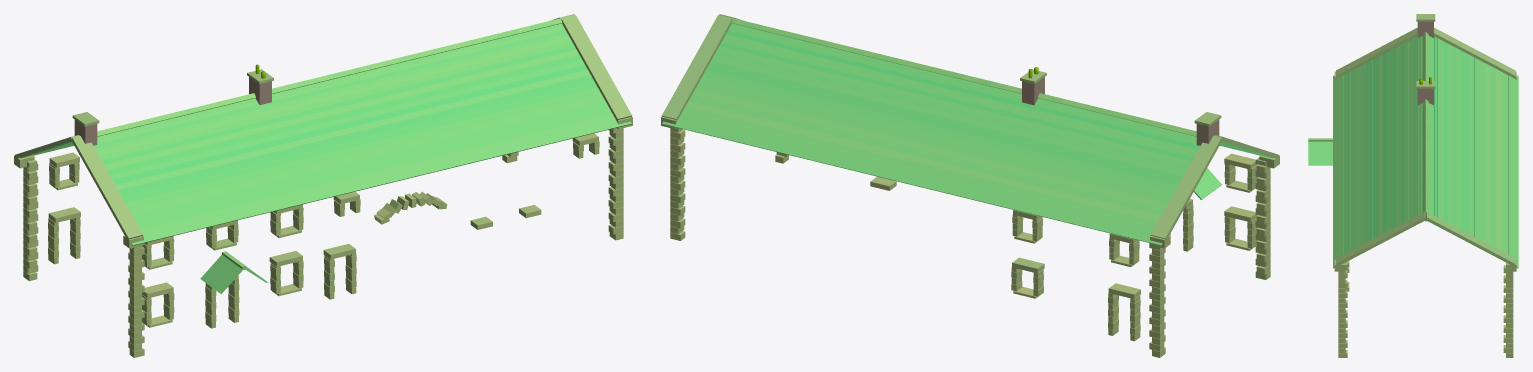
The model's file is SM_Bld_174_Stone.glb.
The picture shows the model from 3 angles, left to right: view 1: azimuth 30°, elevation 25°; view 2: azimuth 150°, elevation 25°; view 3: azimuth 270°, elevation 25°; orthographic projection. The views are drawn at different scales.
Visible parts, largest first — view 1: SM_Bld_174_Stone; view 2: SM_Bld_174_Stone; view 3: SM_Bld_174_Stone.
Part boxes in pixels (<box>): SM_Bld_174_Stone: <box>14,14,632,357</box>; SM_Bld_174_Stone: <box>661,14,1279,357</box>; SM_Bld_174_Stone: <box>1308,14,1518,357</box>.
Size of the model in its own units: 24.97 by 9.74 by 11.45.
